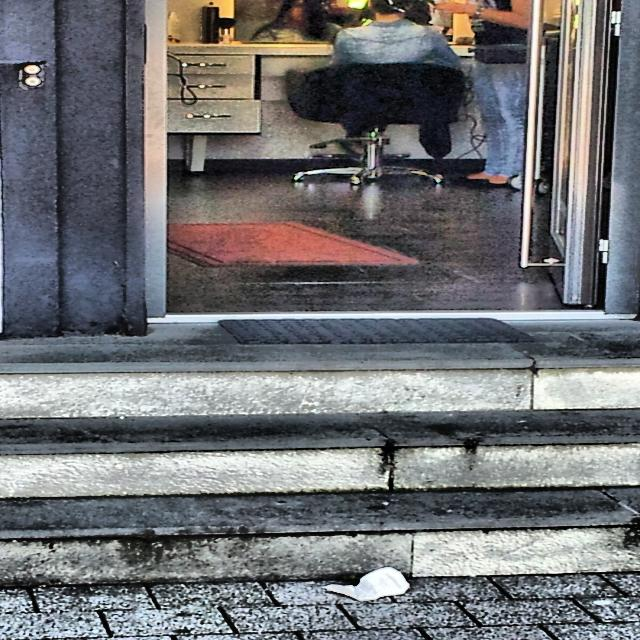escada: (0, 364, 640, 586)
